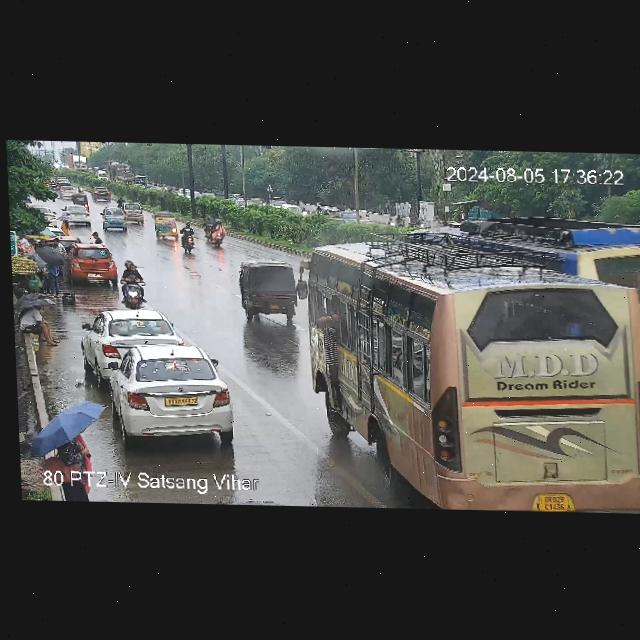bus: (309, 252, 640, 512)
car: (100, 344, 235, 445), (82, 307, 178, 369), (242, 265, 297, 319), (64, 246, 119, 284), (102, 208, 129, 233), (62, 205, 91, 228), (155, 213, 179, 240), (122, 202, 147, 224), (320, 207, 344, 223)
motorcycle: (113, 261, 145, 302), (178, 224, 199, 254), (208, 220, 227, 249)
person: (14, 304, 59, 347), (60, 425, 89, 465), (46, 263, 63, 295), (51, 236, 64, 254), (28, 237, 34, 246)
